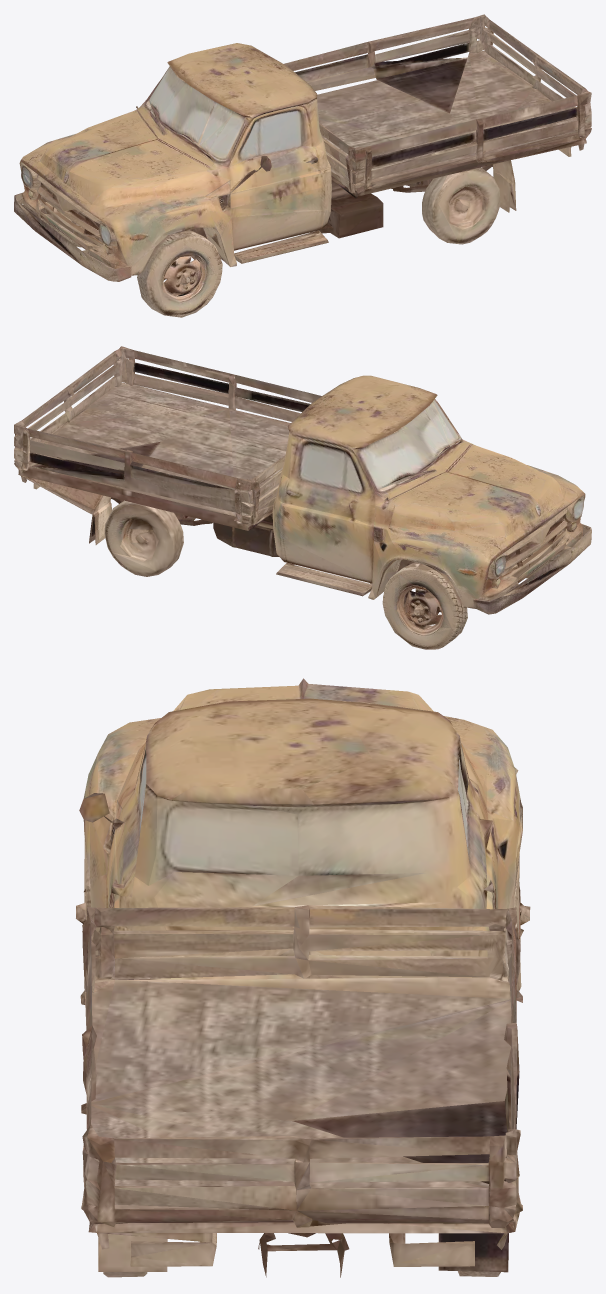
The model's file is pickup_truck.glb.
The picture shows the model from 3 angles, top to bottom: view 1: azimuth 30°, elevation 25°; view 2: azimuth 150°, elevation 25°; view 3: azimuth 270°, elevation 25°; orthographic projection. The views are drawn at different scales.
Visible parts, largest first — view 1: Mesh_0; view 2: Mesh_0; view 3: Mesh_0.
Boxes of the visible parts, x1,y1,x2,y2 form: Mesh_0: (14,14,591,317); Mesh_0: (14,346,591,649); Mesh_0: (76,678,530,1277).
Bounding box in the file's own units: 1.9 × 0.6771 × 0.7718.
1 material, 1 textured.
